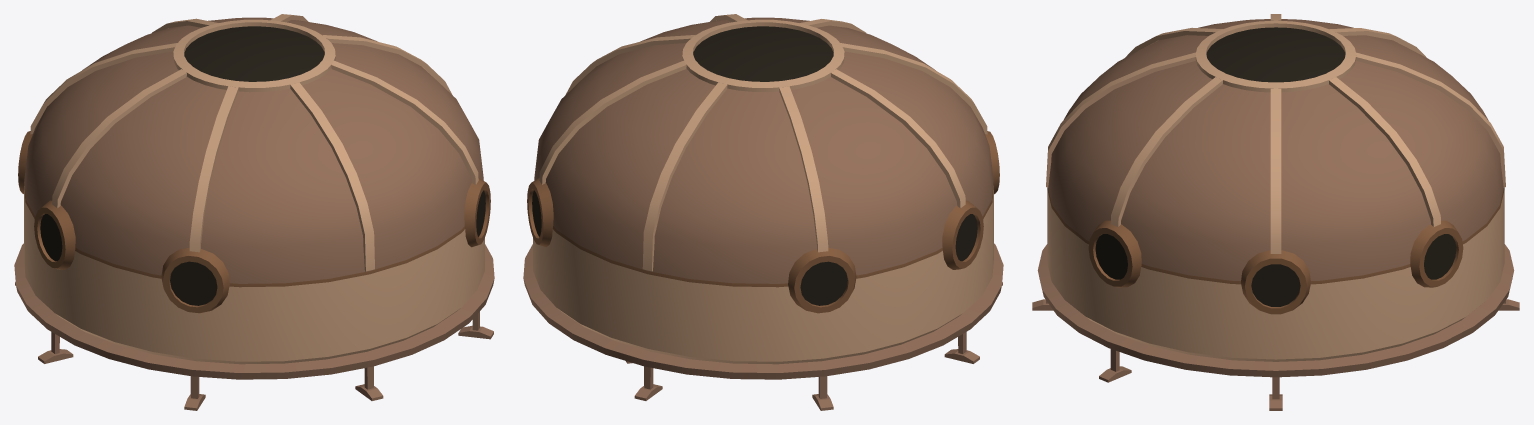
File: n_base_large.glb
The picture shows the model from 3 angles, left to right: view 1: azimuth 30°, elevation 25°; view 2: azimuth 150°, elevation 25°; view 3: azimuth 270°, elevation 25°; orthographic projection.
Visible parts, largest first — view 1: Base_Large; view 2: Base_Large; view 3: Base_Large.
Part boxes in pixels (box(x1,y1,x2,y2)): Base_Large: box(14, 14, 494, 410); Base_Large: box(523, 14, 1003, 410); Base_Large: box(1032, 14, 1519, 410).
Size of the model in its own units: 8.53 by 4.97 by 8.53.
1 material, 1 textured.
